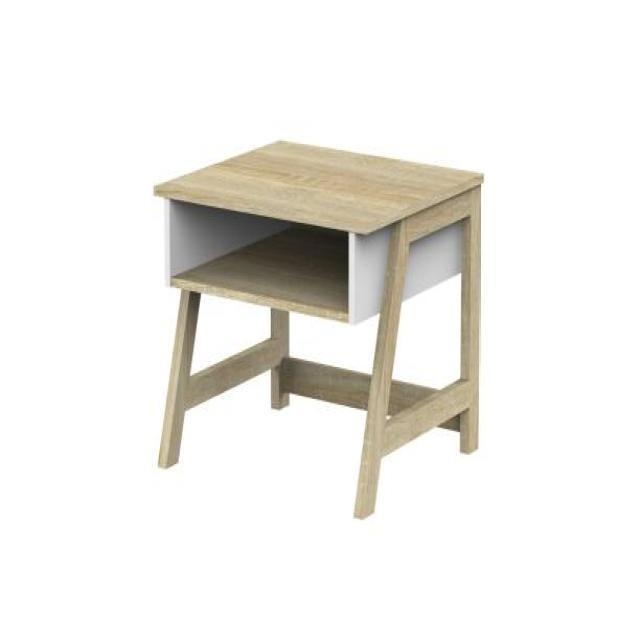table: (152, 136, 484, 518)
